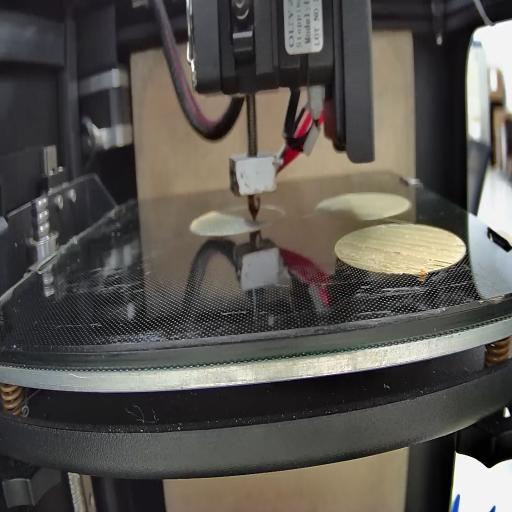under_extrusion: (422, 254, 452, 270), (379, 260, 416, 272), (363, 244, 385, 256), (340, 255, 360, 266), (453, 242, 466, 249), (388, 250, 402, 256)
